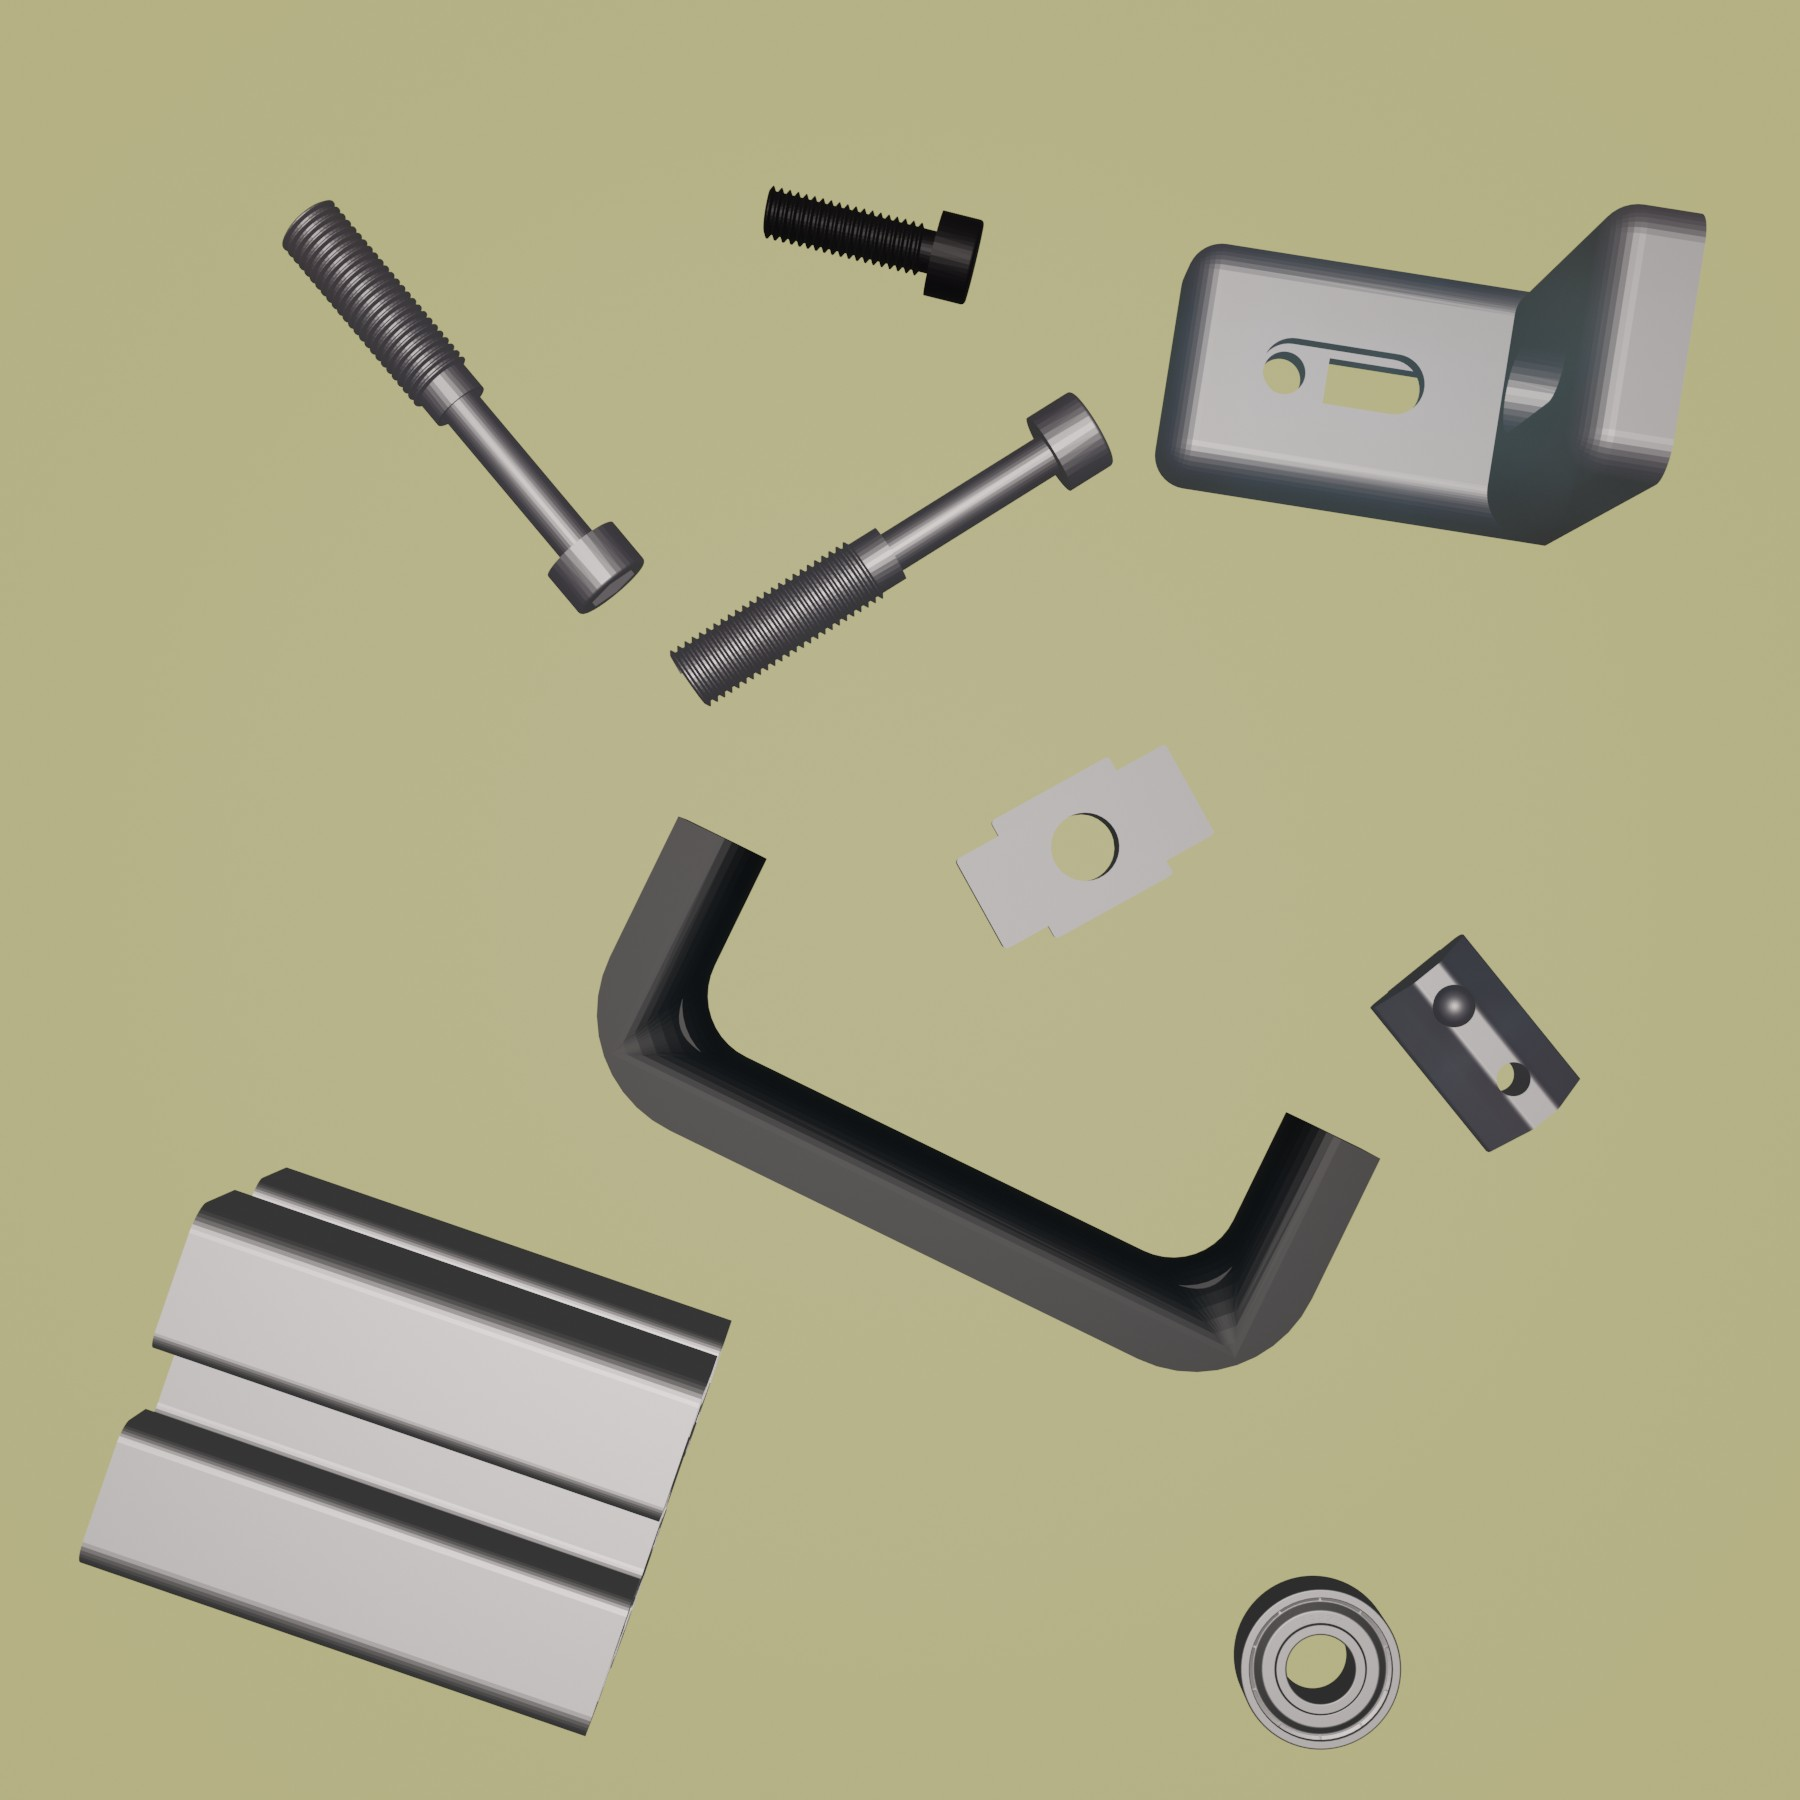Aluminium Extension: (76, 1164, 730, 1741)
Ball Bearing: (1230, 1573, 1404, 1751)
Multiwinkel: (1154, 199, 1708, 549)
Pull Handle: (593, 814, 1381, 1373)
Shoulder Socket Head Cap Screw: (279, 198, 646, 616), (668, 389, 1118, 709)
Socket Head Cap Screw: (758, 181, 986, 307)
T Nut Square: (953, 738, 1223, 953)
T Spring Nut: (1366, 931, 1581, 1152)
